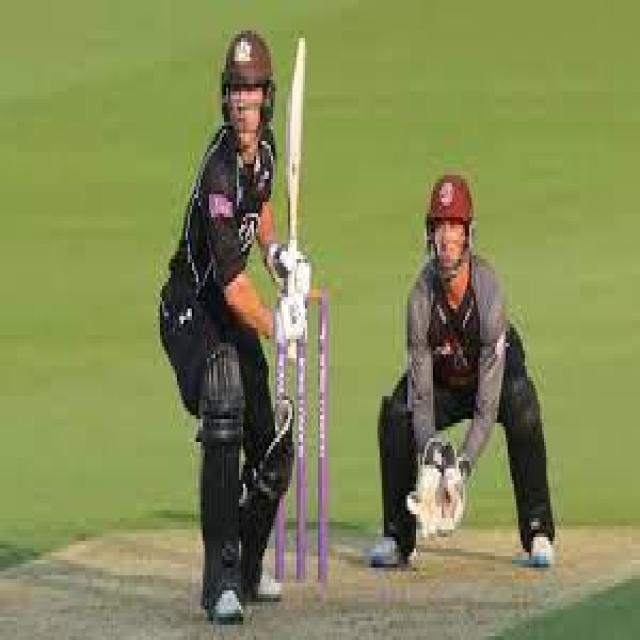bat: (286, 34, 304, 250)
toe: (289, 32, 308, 62)
